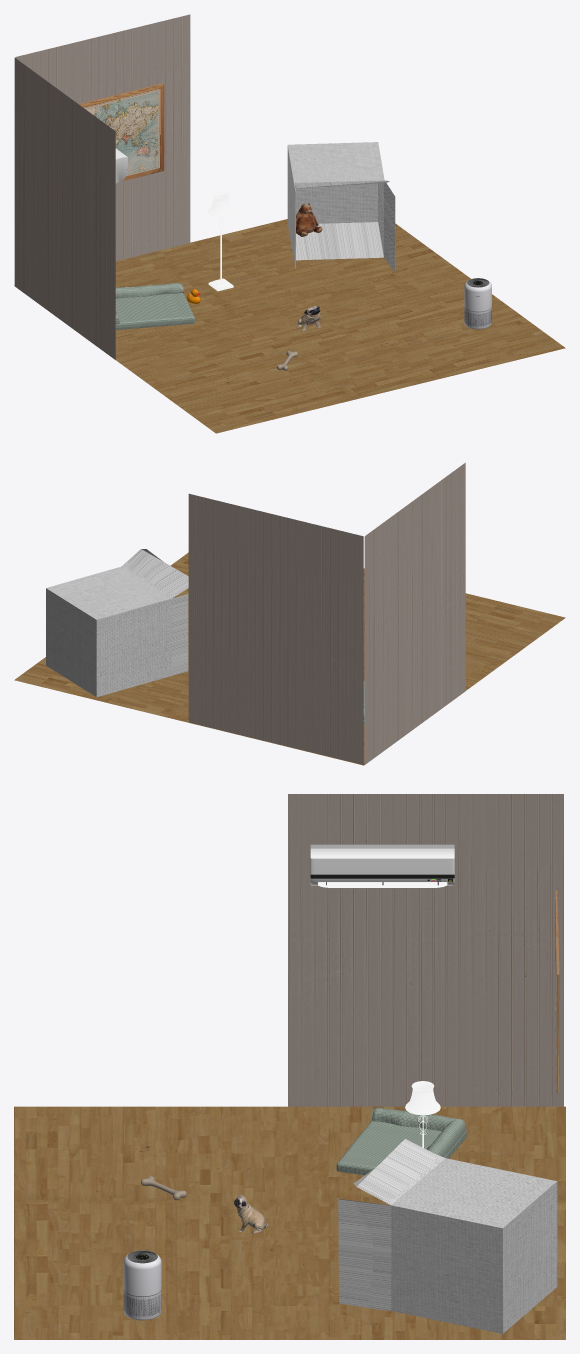
Rendered from บ้านหมาfinal.glb.
The picture shows the model from 3 angles, top to bottom: view 1: azimuth 30°, elevation 25°; view 2: azimuth 150°, elevation 25°; view 3: azimuth 270°, elevation 25°; orthographic projection. The views are drawn at different scales.
Visible parts, largest first — view 1: Plane, Plane.003, Plane.001, Cube, Map_Material.002_0, Object002, aeneoclsbdg000036, base, Map_Material.001_0, floor_lamp, Object_4; view 2: Plane.001, Plane.003, Cube, Plane; view 3: Plane, Plane.003, Cube, Plane_White_0, aeneoclsbdg000036, Object002, base, floor_lamp, Plane.002_White_0, Map_Material.001_0, Plane.001_Gray_0, Plane_Black_0 (+1 smaller).
Part boxes in pixels (x1,y1,x2,y2): Plane: (14, 219, 565, 433); Plane.003: (14, 58, 115, 359); Plane.001: (15, 14, 190, 260); Cube: (287, 142, 395, 271); Map_Material.002_0: (84, 89, 160, 176); Object002: (115, 284, 194, 323); aeneoclsbdg000036: (464, 278, 491, 329); base: (115, 283, 194, 329); Map_Material.001_0: (79, 83, 164, 181); floor_lamp: (208, 192, 234, 291); Object_4: (296, 203, 322, 236); Plane.001: (188, 493, 363, 764); Plane.003: (364, 462, 465, 764); Cube: (46, 549, 188, 696); Plane: (14, 552, 565, 765); Plane: (14, 1106, 565, 1339); Plane.003: (288, 794, 563, 1106); Cube: (338, 1139, 557, 1333); Plane_White_0: (310, 848, 454, 885); aeneoclsbdg000036: (123, 1250, 161, 1320); Object002: (337, 1108, 441, 1169); base: (336, 1107, 466, 1175); floor_lamp: (405, 1081, 440, 1147); Plane.002_White_0: (318, 882, 447, 888); Map_Material.001_0: (555, 890, 559, 1093); Plane.001_Gray_0: (310, 844, 454, 848); Plane_Black_0: (310, 874, 454, 878).
Bounding box in the file's own units: 8 × 5.02 × 8.
Materials: 22 (13 with a texture image).
